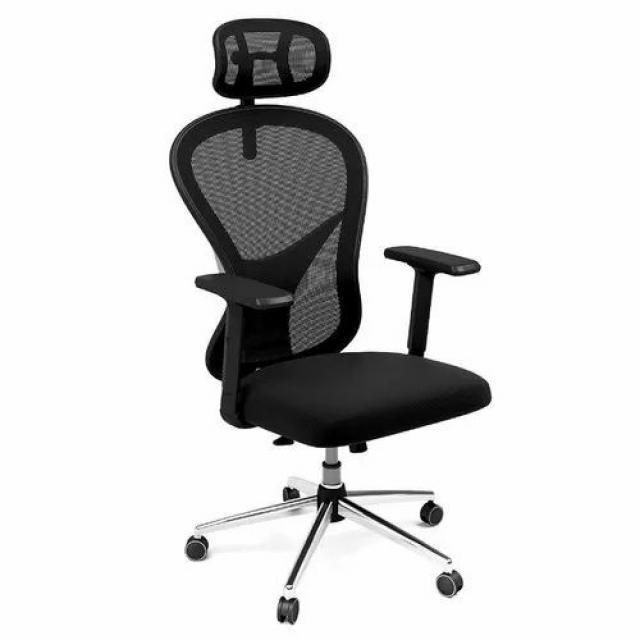chair: (152, 8, 547, 640)
